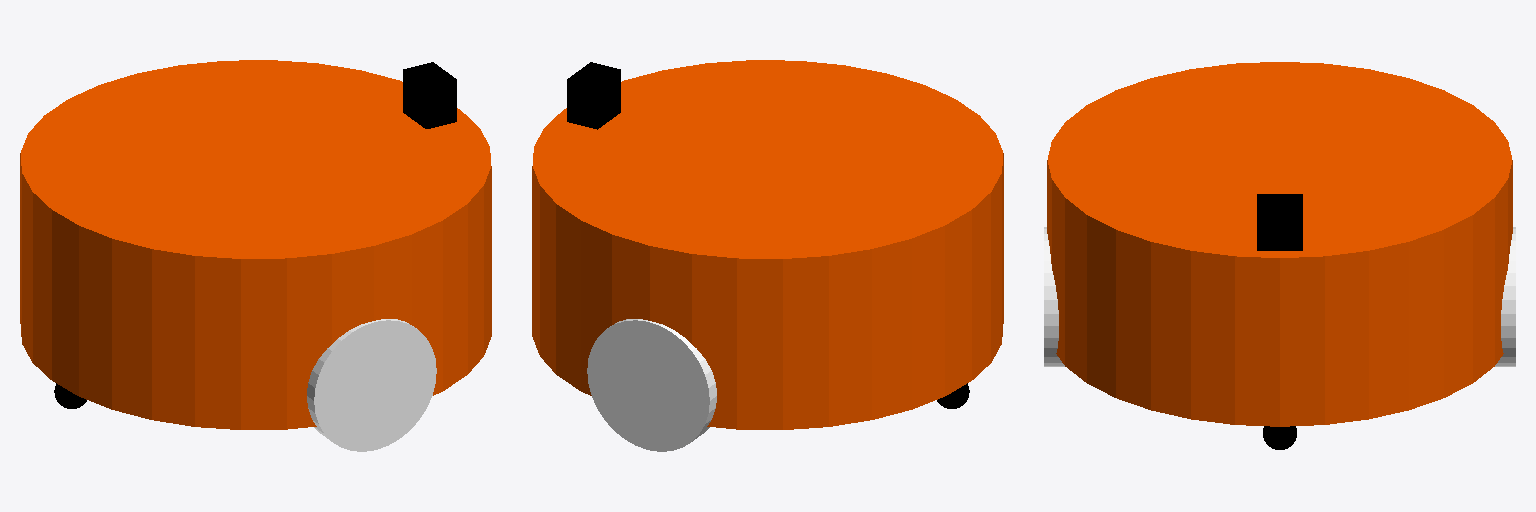
URDF robot description (mbot):
<robot name="mbot">

    <link name="base_link">
        <visual>
            <origin xyz=" 0 0 0" rpy="0 0 0" />
            <geometry>
                <cylinder length="0.16" radius="0.20"/>
            </geometry>
            <material name="yellow">
                <color rgba="1 0.4 0 1"/>
            </material>
        </visual>
    </link>

    <joint name="left_wheel_joint" type="continuous">
        <origin xyz="0 0.19 -0.05" rpy="0 0 0"/>
        <parent link="base_link"/>
        <child link="left_wheel_link"/>
        <axis xyz="0 1 0"/>
    </joint>

    <link name="left_wheel_link">
        <visual>
            <origin xyz="0 0 0" rpy="1.5707 0 0" />
            <geometry>
                <cylinder radius="0.06" length = "0.025"/>
            </geometry>
            <material name="white">
                <color rgba="1 1 1 0.9"/>
            </material>
        </visual>
    </link>

    <joint name="right_wheel_joint" type="continuous">
        <origin xyz="0 -0.19 -0.05" rpy="0 0 0"/>
        <parent link="base_link"/>
        <child link="right_wheel_link"/>
        <axis xyz="0 1 0"/>
    </joint>

    <link name="right_wheel_link">
        <visual>
            <origin xyz="0 0 0" rpy="1.5707 0 0" />
            <geometry>
                <cylinder radius="0.06" length = "0.025"/>
            </geometry>
            <material name="white">
                <color rgba="1 1 1 0.9"/>
            </material>
        </visual>
    </link>

    <joint name="front_caster_joint" type="continuous">
        <origin xyz="0.18 0 -0.095" rpy="0 0 0"/>
        <parent link="base_link"/>
        <child link="front_caster_link"/>
        <axis xyz="0 1 0"/>
    </joint>

    <link name="front_caster_link">
        <visual>
            <origin xyz="0 0 0" rpy="0 0 0"/>
            <geometry>
                <sphere radius="0.015" />
            </geometry>
            <material name="black">
                <color rgba="0 0 0 0.95"/>
            </material>
        </visual>
    </link>

    <joint name="back_caster_joint" type="continuous">
        <origin xyz="-0.18 0 -0.095" rpy="0 0 0"/>
        <parent link="base_link"/>
        <child link="back_caster_link"/>
        <axis xyz="0 1 0"/>
    </joint>

    <link name="back_caster_link">
        <visual>
            <origin xyz="0 0 0" rpy="0 0 0"/>
            <geometry>
                <sphere radius="0.015" />
            </geometry>
            <material name="black">
                <color rgba="0 0 0 0.95"/>
            </material>
        </visual>
    </link>

    <link name="camera_link">
        <visual>
            <origin xyz=" 0 0 0 " rpy="0 0 0" />
            <geometry>
                <box size="0.03 0.04 0.04" />
            </geometry>
            <material name="black">
                <color rgba="0 0 0 0.95"/>
            </material>
        </visual>
    </link>

    <joint name="camera_joint" type="fixed">
        <origin xyz="0.17 0 0.10" rpy="0 0 0"/>
        <parent link="base_link"/>
        <child link="camera_link"/>
    </joint>

</robot>

--- What the picture shows (computed from the rendered views, not written in the file) ---
3 views of the same robot in one strip: view 1: azimuth 30°, elevation 25°; view 2: azimuth 150°, elevation 25°; view 3: azimuth 270°, elevation 25° (orthographic).
Robot: mbot — 6 links, 5 joints (4 continuous, 1 fixed); root link base_link; default pose: all joints at 0.
Links seen in each view (by area): view 1: base_link, right_wheel_link, camera_link; view 2: base_link, left_wheel_link, camera_link; view 3: base_link, camera_link, left_wheel_link, right_wheel_link, front_caster_link.
Link boxes in pixels (box(x1,y1,x2,y2)): base_link: box(20, 60, 491, 429); right_wheel_link: box(307, 319, 436, 451); camera_link: box(403, 62, 456, 128); base_link: box(532, 60, 1003, 429); left_wheel_link: box(587, 319, 716, 451); camera_link: box(567, 62, 620, 129); base_link: box(1047, 62, 1512, 426); camera_link: box(1257, 194, 1302, 250); left_wheel_link: box(1495, 227, 1515, 366); right_wheel_link: box(1044, 227, 1064, 366); front_caster_link: box(1263, 426, 1296, 449).
Bounding box of the posed robot: 0.4 × 0.405 × 0.23 m (x, y, z).
Geometry: primitives only (box / cylinder / sphere), no mesh files.